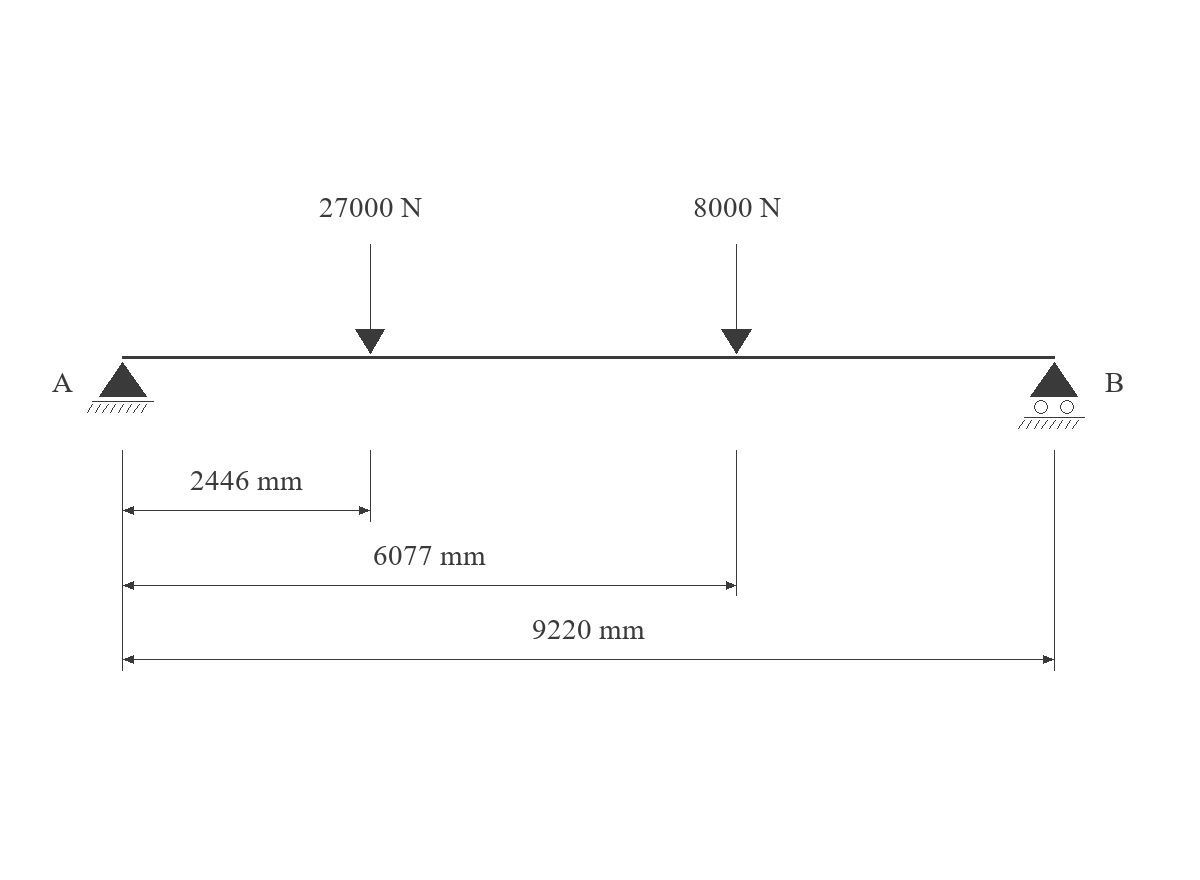pin_support: (87, 362, 154, 413)
point_load: (721, 244, 752, 354), (355, 244, 385, 354)
roller_support: (1018, 362, 1085, 429)
